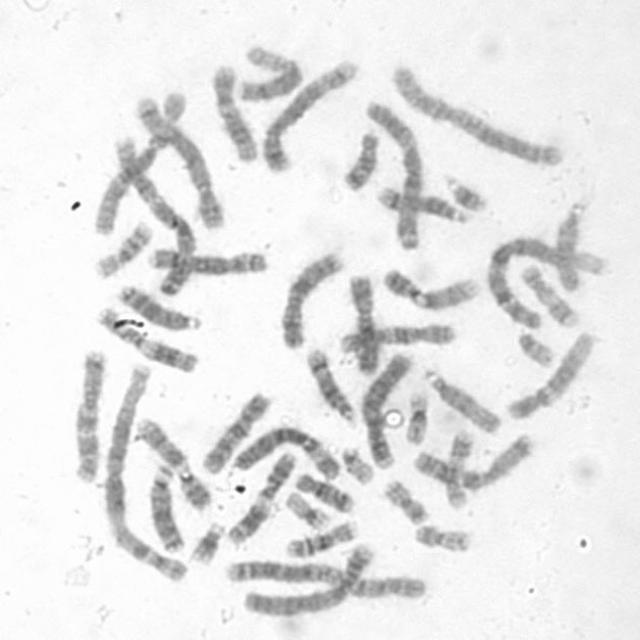A1: (97, 358, 192, 582), (480, 229, 610, 329)
A2: (386, 59, 567, 168), (219, 553, 429, 603)
A3: (108, 128, 202, 300), (358, 93, 428, 252)
B4: (238, 538, 378, 618), (357, 347, 416, 470)
B5: (128, 89, 227, 230), (256, 53, 360, 174)
C10: (196, 386, 274, 476), (334, 317, 459, 355)
C11: (92, 301, 202, 375), (223, 446, 301, 546)
C12: (500, 325, 600, 422), (208, 59, 260, 164)
C6: (88, 84, 190, 237), (228, 421, 343, 482)
C7: (408, 429, 537, 492), (68, 344, 110, 484)
C8: (144, 241, 274, 278), (231, 40, 304, 104)
C9: (132, 413, 214, 512), (378, 261, 483, 313)
D13: (114, 280, 205, 333), (143, 459, 187, 554)
D14: (301, 342, 359, 426), (372, 180, 478, 225)
D15: (419, 362, 505, 436), (550, 194, 590, 294)
E16: (88, 215, 156, 281), (280, 514, 360, 560)
E17: (516, 259, 582, 329), (439, 425, 478, 511)
E18: (290, 467, 356, 514), (337, 125, 382, 192)
F19: (282, 486, 333, 532), (400, 386, 432, 446)
F20: (378, 474, 431, 526), (410, 519, 474, 554)
G21: (440, 168, 491, 214), (185, 516, 227, 566)
G22: (513, 326, 557, 369), (337, 442, 377, 486)
X: (275, 246, 346, 351), (343, 268, 382, 377)
